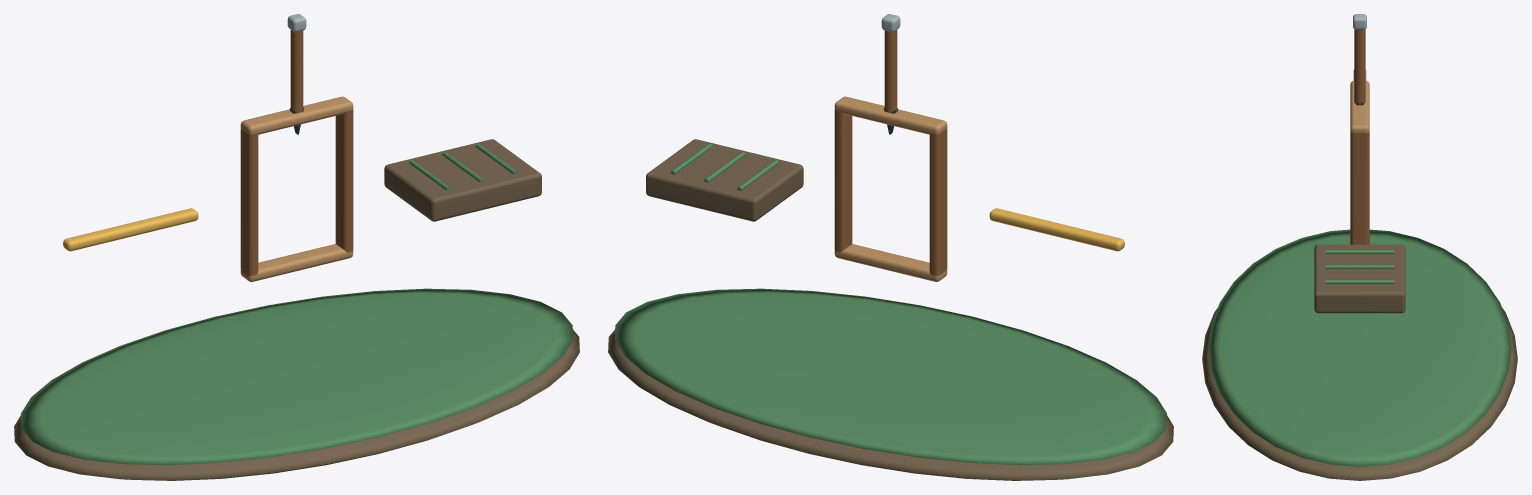
Rendered from complete-first-draw-a-field.glb.
3 views of the same model, side by side, from view 1: azimuth 30°, elevation 25°; view 2: azimuth 150°, elevation 25°; view 3: azimuth 270°, elevation 25° (orthographic). The views are drawn at different scales.
Visible parts, largest first — view 1: complete-first-draw-a-field_surface_01, complete-first-draw-a-field_surface_00, complete-first-draw-a-field_surface_03, complete-first-draw-a-field_surface_04, complete-first-draw-a-field_surface_02; view 2: complete-first-draw-a-field_surface_01, complete-first-draw-a-field_surface_00, complete-first-draw-a-field_surface_03, complete-first-draw-a-field_surface_04, complete-first-draw-a-field_surface_02; view 3: complete-first-draw-a-field_surface_01, complete-first-draw-a-field_surface_00, complete-first-draw-a-field_surface_03, complete-first-draw-a-field_surface_04.
Part boxes in pixels (<box>): complete-first-draw-a-field_surface_01: <box>21,143,572,465</box>; complete-first-draw-a-field_surface_00: <box>14,139,579,480</box>; complete-first-draw-a-field_surface_03: <box>240,30,353,275</box>; complete-first-draw-a-field_surface_04: <box>240,96,353,281</box>; complete-first-draw-a-field_surface_02: <box>63,208,198,251</box>; complete-first-draw-a-field_surface_01: <box>615,143,1166,465</box>; complete-first-draw-a-field_surface_00: <box>608,139,1173,480</box>; complete-first-draw-a-field_surface_03: <box>834,30,947,275</box>; complete-first-draw-a-field_surface_04: <box>834,96,947,281</box>; complete-first-draw-a-field_surface_02: <box>989,208,1124,251</box>; complete-first-draw-a-field_surface_01: <box>1208,229,1511,466</box>; complete-first-draw-a-field_surface_00: <box>1202,244,1517,480</box>; complete-first-draw-a-field_surface_03: <box>1350,29,1369,244</box>; complete-first-draw-a-field_surface_04: <box>1350,80,1369,133</box>.
Bounding box in the file's own units: 4.56 × 3.13 × 2.5.
